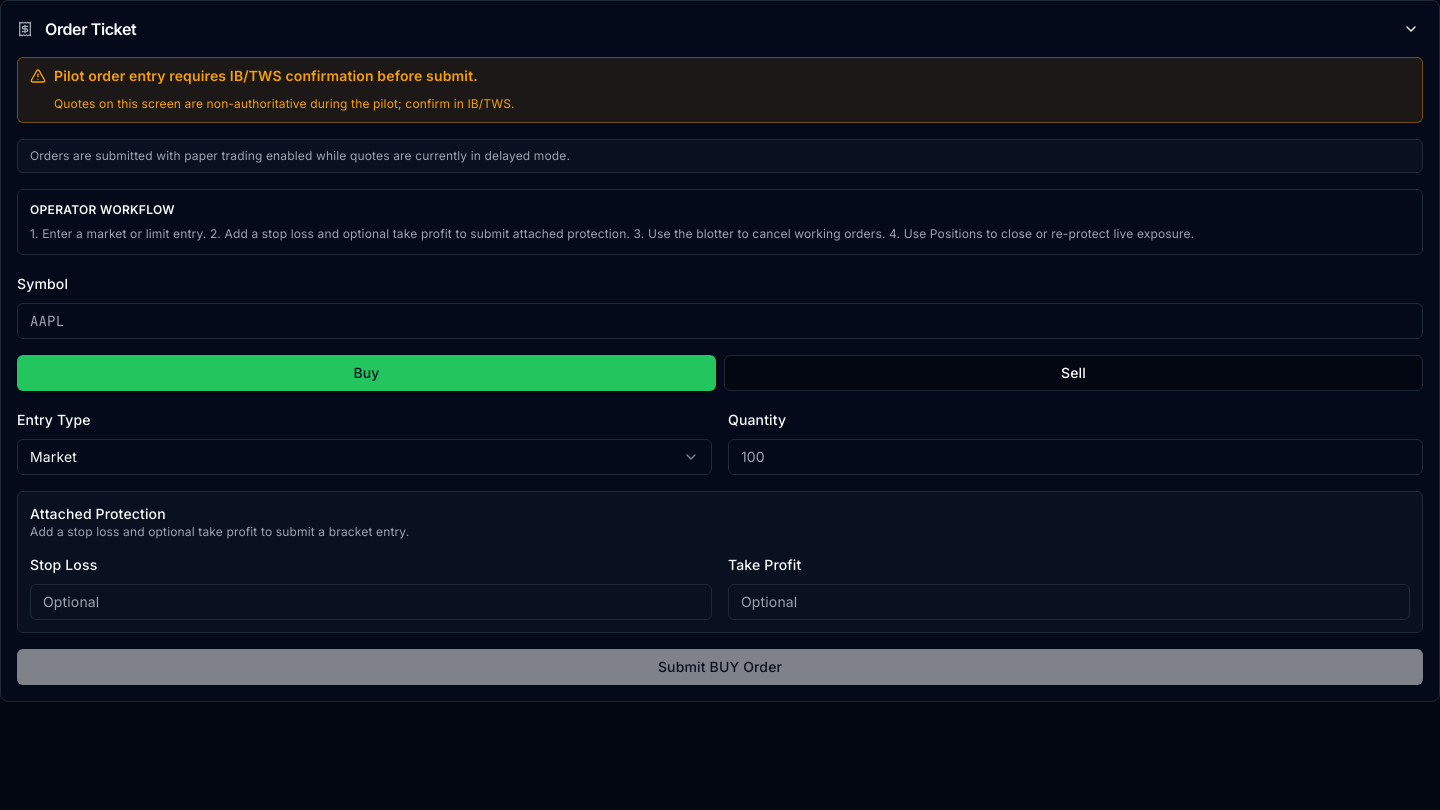
OrderTicketPanel › allows manual ETF entry when policy marks symbol as manual allowed
Type "IWM" into the field labelled "Symbol".
click(720, 320); type("IWM")  # box [17,302,1423,338]
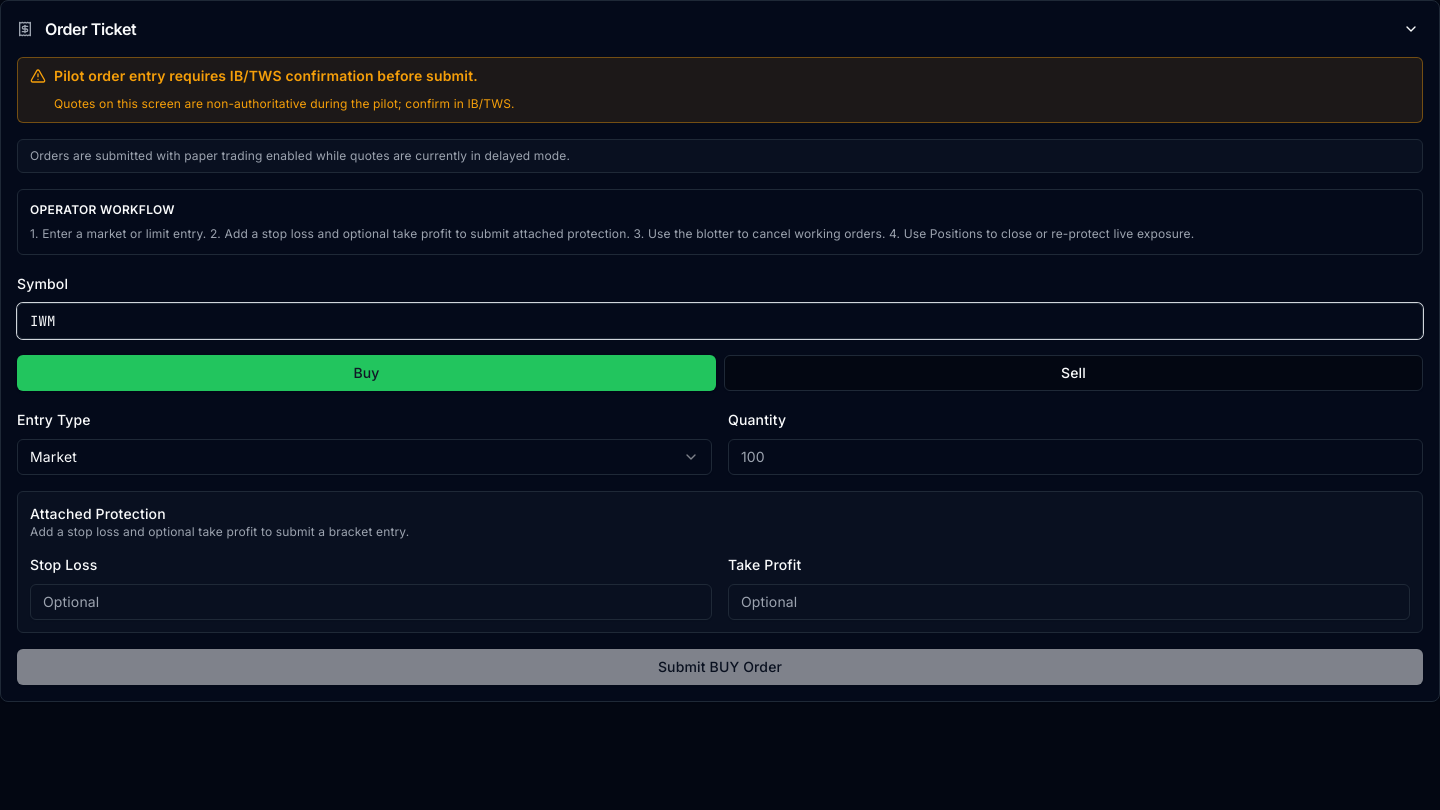
Type "5" into the number field labelled "Quantity".
click(1076, 456); type("5")  # box [728,438,1423,474]
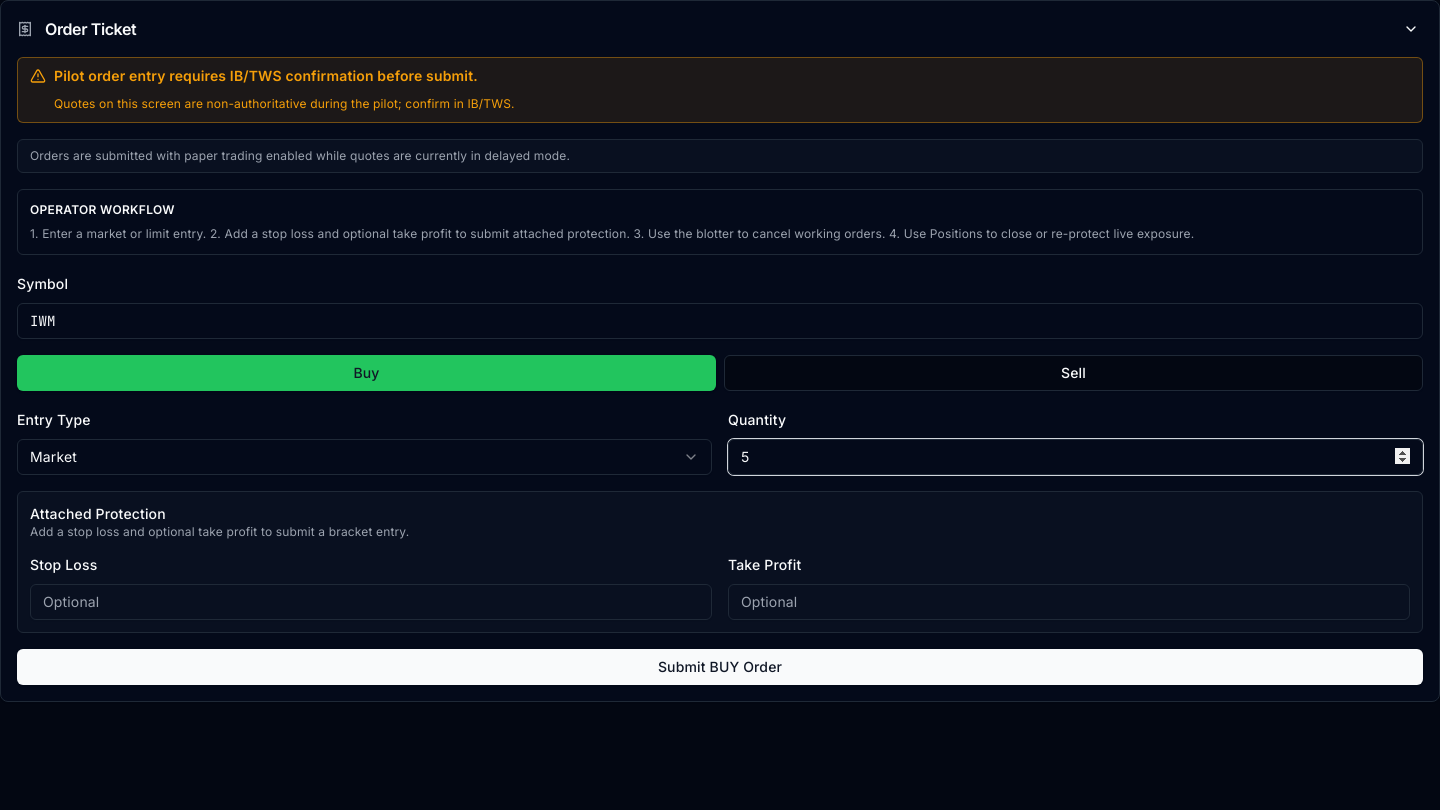
Expected: the button "Submit BUY Order" is enabled, [17,648,1423,684]
